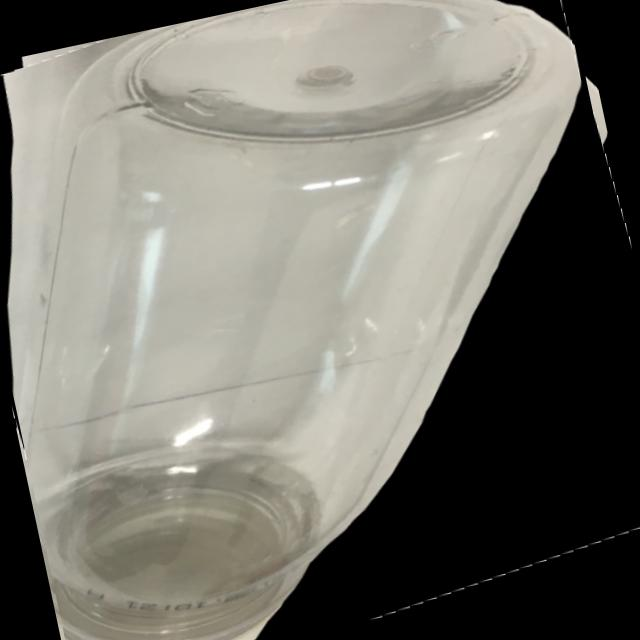plastic: (4, 0, 584, 640)
